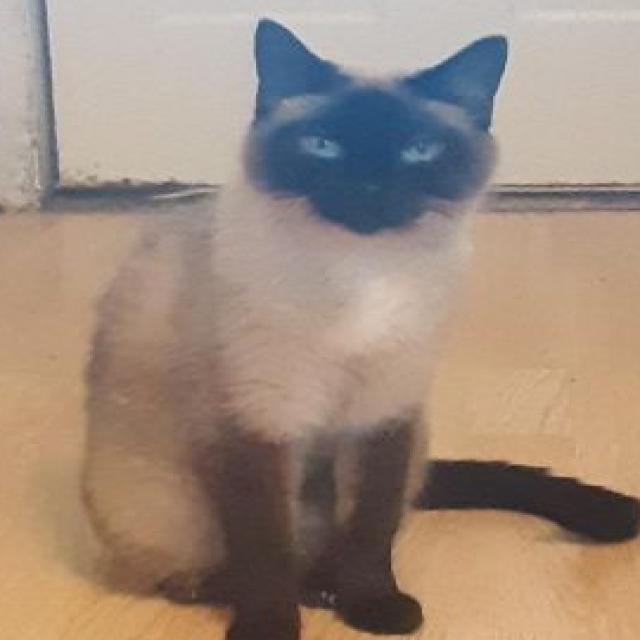Siamese: (76, 12, 640, 640)
